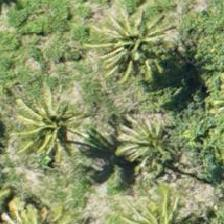coconut_tree: (7, 87, 97, 177), (103, 91, 193, 181), (106, 13, 196, 103)
